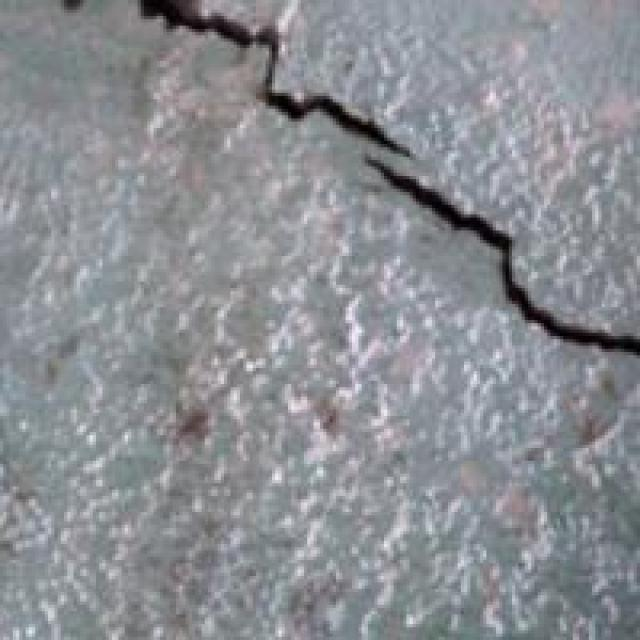Crack: (144, 0, 637, 384)
